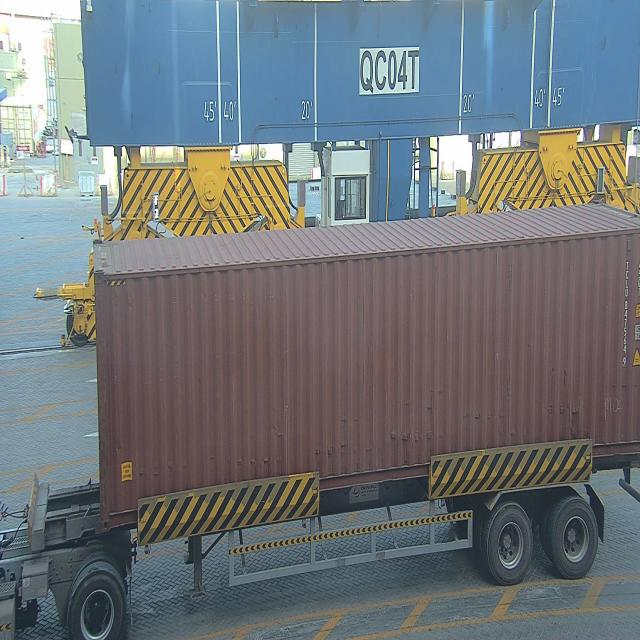dent: (543, 393, 601, 439), (384, 423, 448, 448), (313, 438, 357, 464)
